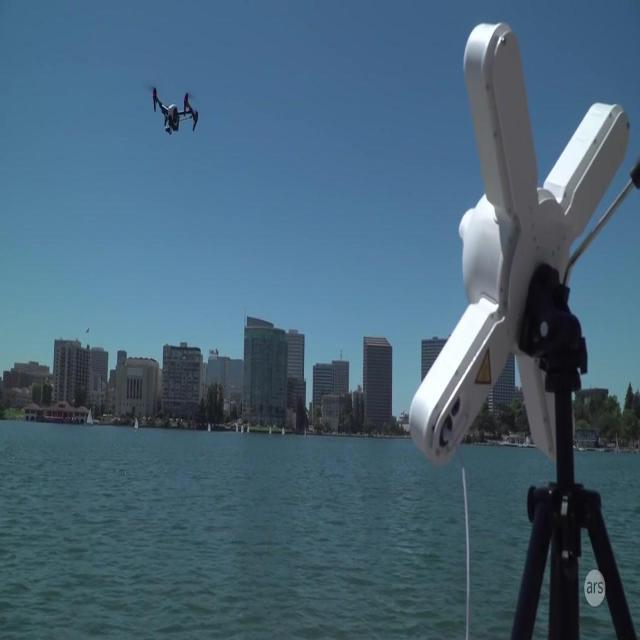UAV: (150, 85, 198, 135)
